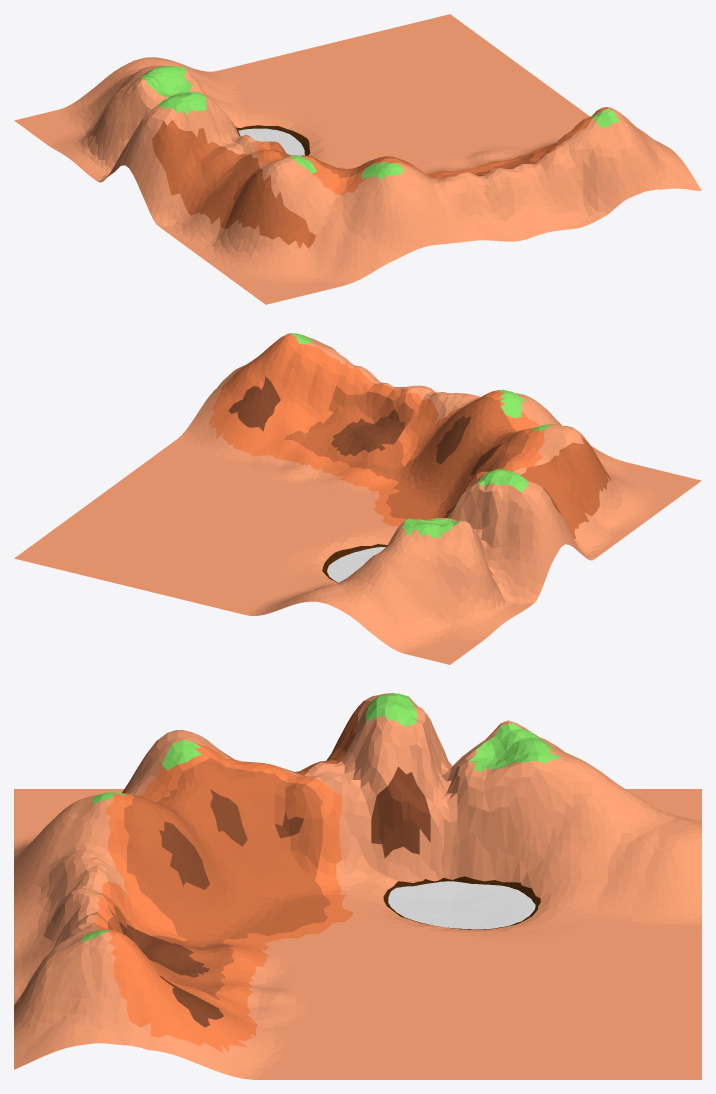
File: MAPGunung.fbx
The picture shows the model from 3 angles, top to bottom: view 1: azimuth 30°, elevation 25°; view 2: azimuth 150°, elevation 25°; view 3: azimuth 270°, elevation 25°; orthographic projection. The views are drawn at different scales.
Parts seen in each view (by area): view 1: Map, Aer; view 2: Map, Aer; view 3: Map, Aer.
Part boxes in pixels (x1,y1,x2,y2): Map: (14,14,701,304); Aer: (238,128,304,155); Map: (14,333,701,664); Aer: (327,547,385,582); Map: (14,693,701,1079); Aer: (388,881,535,929).
Size of the model in its own units: 7000 by 1893 by 7000.
